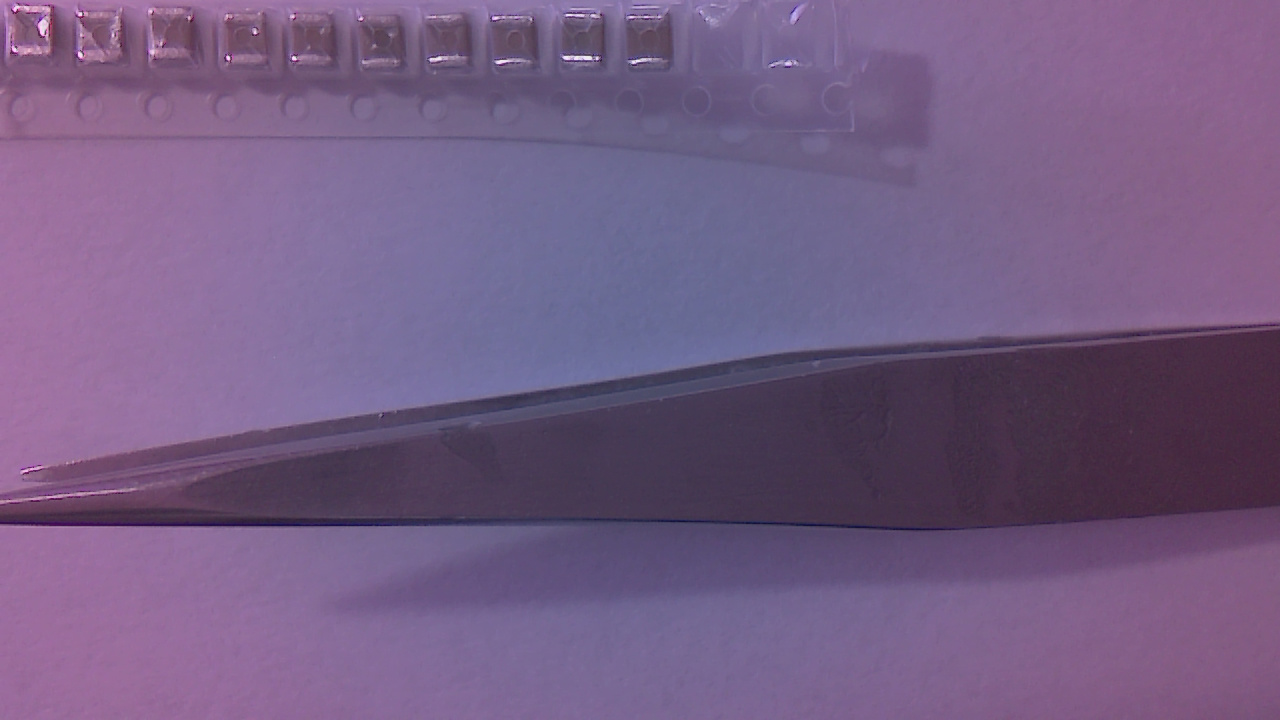Condensator: (80, 11, 133, 71), (151, 8, 204, 67), (362, 18, 411, 77), (291, 15, 339, 73), (14, 8, 62, 66), (495, 19, 544, 75), (631, 17, 677, 73), (229, 16, 273, 73), (567, 13, 609, 72)
